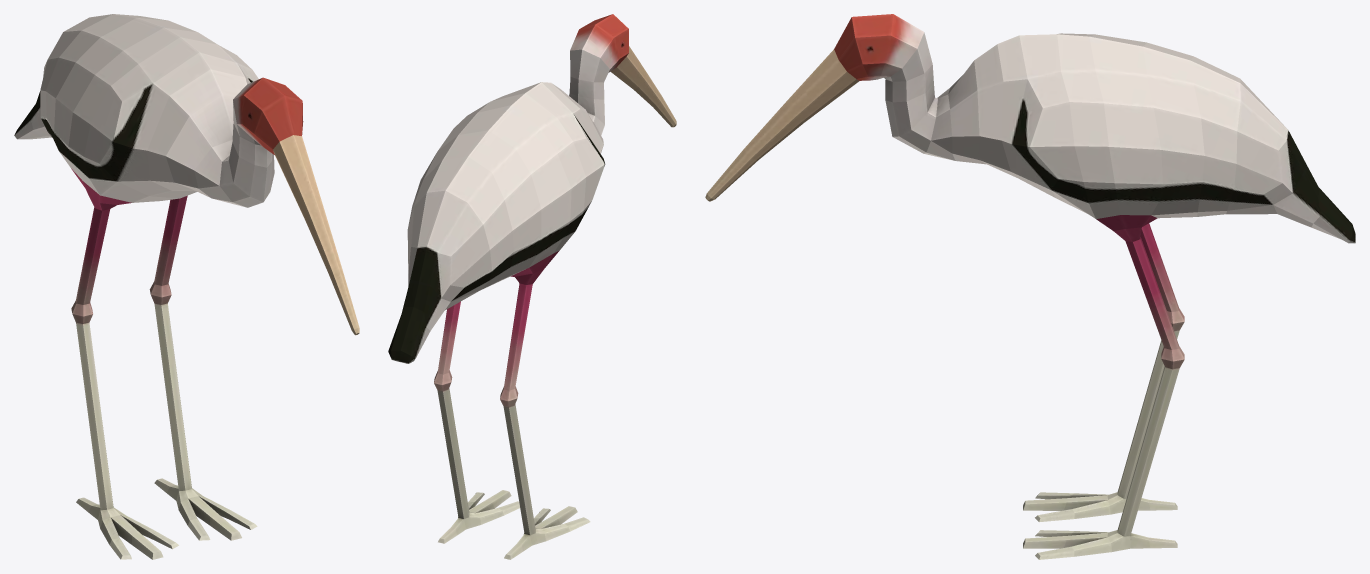
Rendered from stork.glb.
3 renders of one model, left to right at view 1: azimuth 30°, elevation 25°; view 2: azimuth 150°, elevation 25°; view 3: azimuth 270°, elevation 25°, orthographic. The views are drawn at different scales.
Visible parts, largest first — view 1: YellowBilledStork_mesh; view 2: YellowBilledStork_mesh; view 3: YellowBilledStork_mesh.
Part boxes in pixels (x1,y1,x2,y2): YellowBilledStork_mesh: (14, 14, 359, 559); YellowBilledStork_mesh: (388, 14, 676, 559); YellowBilledStork_mesh: (705, 14, 1355, 559).
Size of the model in its own units: 2.89 by 8.68 by 9.97.
Materials: 1 (1 with a texture image).
